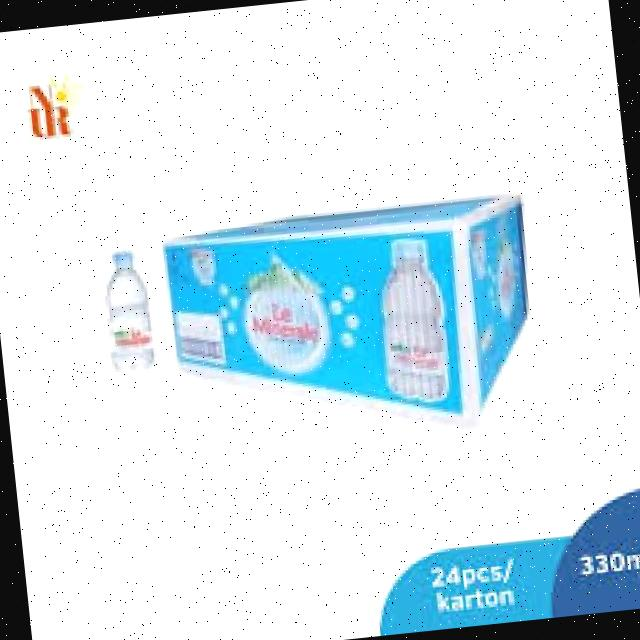bottle: (92, 250, 169, 382)
